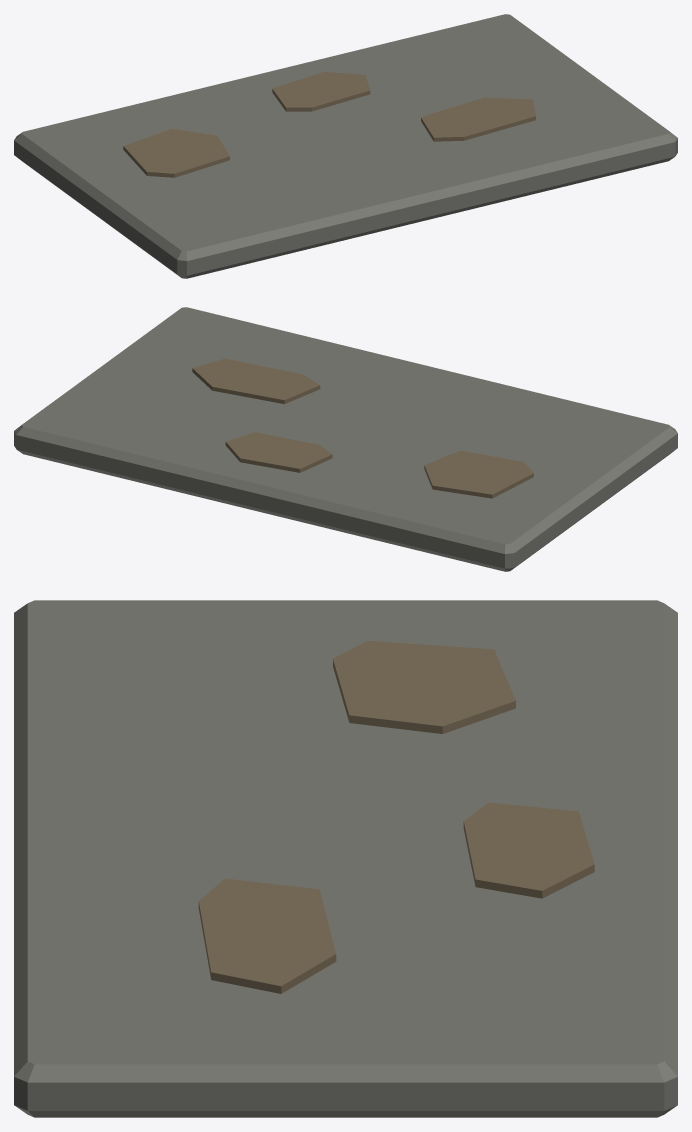
Rendered from DeeperCavity_Concealed.fbx.
The picture shows the model from 3 angles, top to bottom: view 1: azimuth 30°, elevation 25°; view 2: azimuth 150°, elevation 25°; view 3: azimuth 270°, elevation 25°; orthographic projection. The views are drawn at different scales.
Visible parts, largest first — view 1: DeeperCavity_Concealed; view 2: DeeperCavity_Concealed; view 3: DeeperCavity_Concealed.
Boxes of the visible parts, x1,y1,x2,y2 form: DeeperCavity_Concealed: (14,14,677,278); DeeperCavity_Concealed: (14,307,677,571); DeeperCavity_Concealed: (14,600,677,1117).
Bounding box in the file's own units: 1.72 × 0.103 × 1.01.
